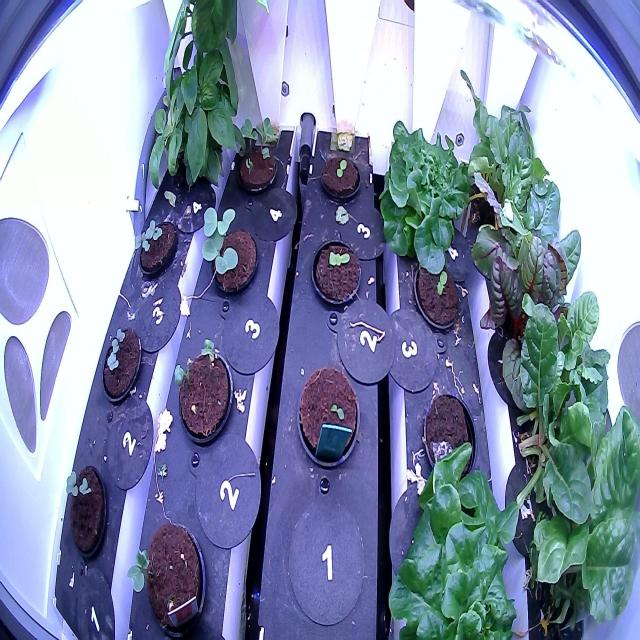Ready: (193, 200, 260, 304)
germination: (121, 499, 212, 635), (166, 331, 238, 464), (290, 364, 362, 476), (58, 454, 112, 566), (410, 242, 462, 342), (228, 114, 282, 204), (307, 229, 363, 311), (97, 319, 145, 408), (129, 208, 179, 283), (318, 150, 364, 209)
pod: (420, 384, 480, 490)
